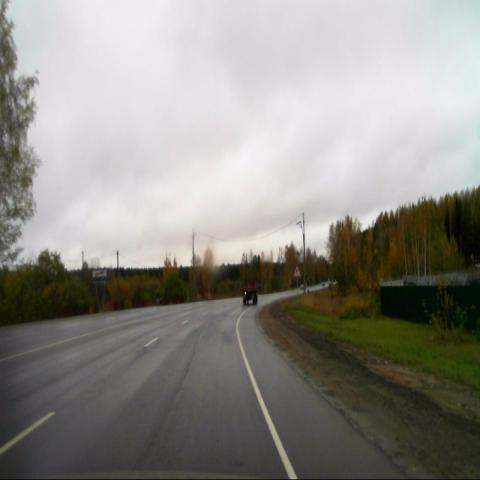1_22: (292, 262, 302, 279)
